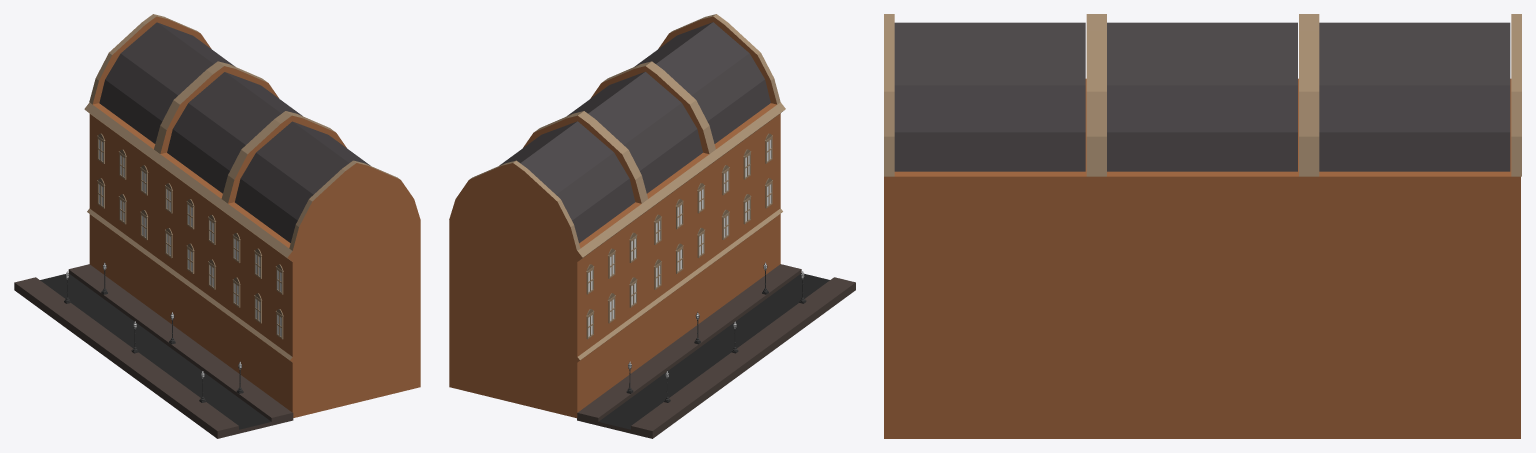
The model's file is street_lamp.fbx.
The picture shows the model from 3 angles, left to right: view 1: azimuth 30°, elevation 25°; view 2: azimuth 150°, elevation 25°; view 3: azimuth 270°, elevation 25°; orthographic projection. The views are drawn at different scales.
Visible parts, largest first — view 1: Buildings.002, Buildings, Buildings.001, Street, Buildings_Detaiö.002, Buildings_Detaiö, Buildings_Detaiö.001, Cube, Cube.002, Cube.001, Lamp; view 2: Buildings, Buildings.001, Buildings.002, Street, Buildings_Detaiö, Buildings_Detaiö.002, Buildings_Detaiö.001, Cube, Cube.002, Cube.001, Lamp; view 3: Buildings.002, Buildings, Buildings.001, Buildings_Detaiö, Buildings_Detaiö.002, Buildings_Detaiö.001.
Boxes of the visible parts, box(x1,y1,x2,y2) form: Buildings.002: box(219, 121, 420, 417); Buildings: box(84, 22, 235, 313); Buildings.001: box(152, 72, 302, 362); Street: box(14, 264, 293, 438); Buildings_Detaiö.002: box(225, 113, 420, 250); Buildings_Detaiö: box(89, 14, 264, 151); Buildings_Detaiö.001: box(157, 64, 331, 200); Cube: box(97, 133, 148, 239); Cube.002: box(232, 233, 283, 339); Cube.001: box(165, 183, 215, 289); Lamp: box(64, 262, 243, 402); Buildings: box(449, 121, 650, 418); Buildings.001: box(567, 71, 717, 362); Buildings.002: box(634, 22, 785, 313); Street: box(577, 264, 855, 438); Buildings_Detaiö: box(449, 113, 644, 250); Buildings_Detaiö.002: box(606, 14, 780, 151); Buildings_Detaiö.001: box(537, 63, 712, 200); Cube: box(586, 232, 637, 339); Cube.002: box(721, 133, 772, 239); Cube.001: box(654, 183, 705, 289); Lamp: box(626, 262, 806, 402); Buildings.002: box(884, 22, 1096, 438); Buildings: box(1308, 22, 1520, 438); Buildings.001: box(1096, 22, 1308, 438); Buildings_Detaiö: box(1308, 14, 1521, 176); Buildings_Detaiö.002: box(884, 14, 1097, 176); Buildings_Detaiö.001: box(1096, 14, 1308, 176).
Size of the model in its own units: 3810 by 4340 by 6610.
